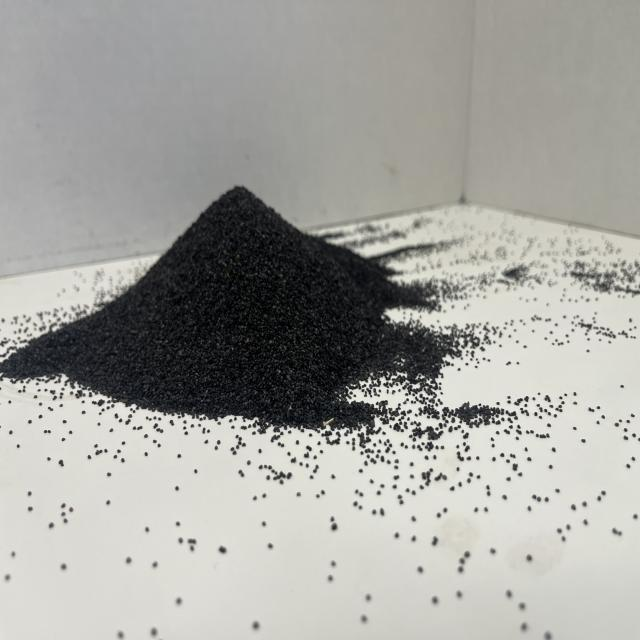Poppy Seeds: (13, 158, 463, 456)
